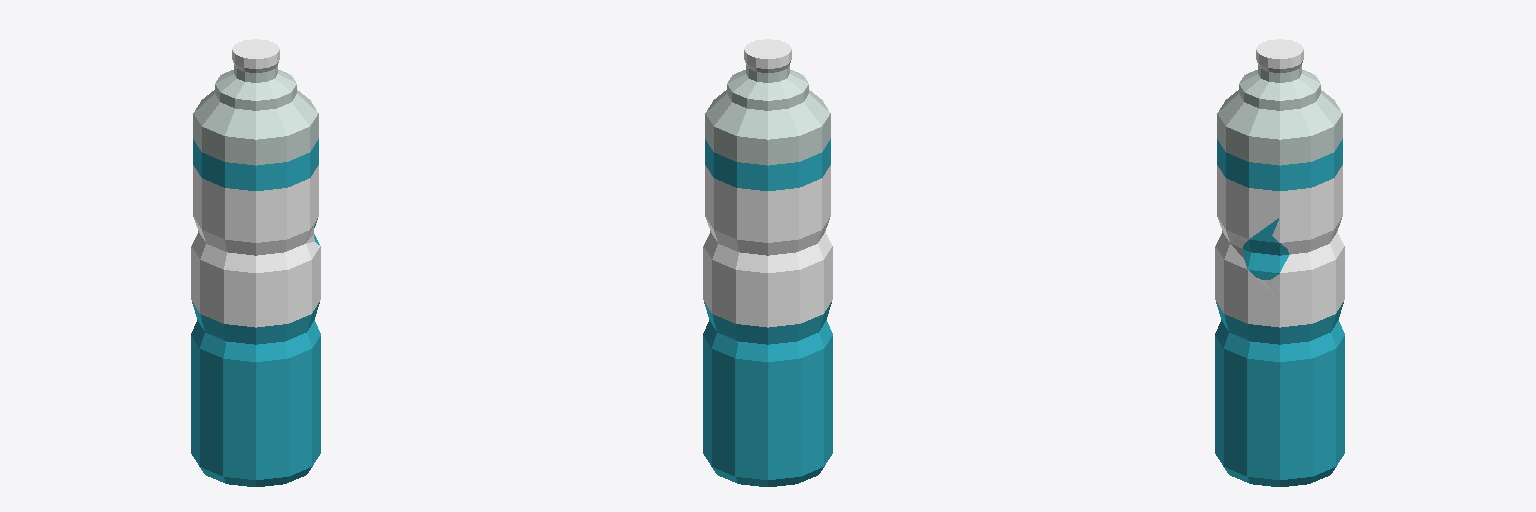
The picture shows the model from 3 angles: view 1: azimuth 30°, elevation 25°; view 2: azimuth 150°, elevation 25°; view 3: azimuth 270°, elevation 25°; orthographic projection.
Visible parts, largest first — view 1: group[number redacted]; view 2: group[number redacted]; view 3: group[number redacted].
Part boxes in pixels (x1,y1,x2,y2): group[number redacted]: (191,39,320,486); group[number redacted]: (703,39,832,486); group[number redacted]: (1215,39,1344,486).
Bounding box in the file's own units: 0.24 × 0.84 × 0.24.